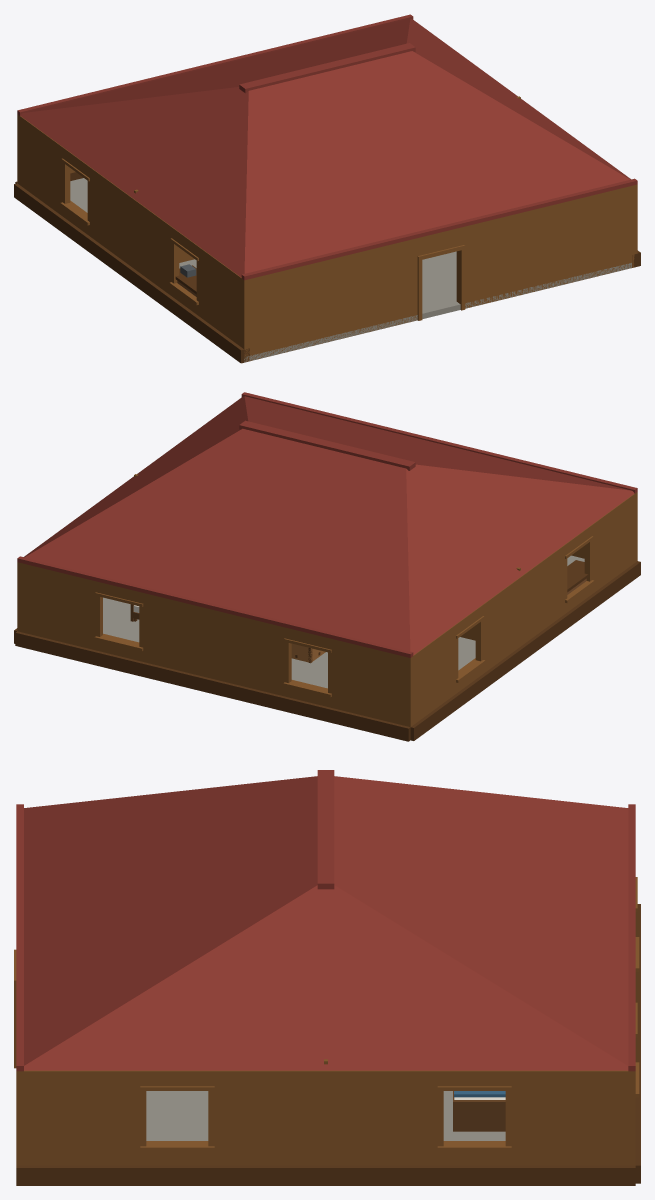
File: cabin_wood.glb
3 views of the same model, one above another, from view 1: azimuth 30°, elevation 25°; view 2: azimuth 150°, elevation 25°; view 3: azimuth 270°, elevation 25° (orthographic). The views are drawn at different scales.
Visible parts, largest first — view 1: cabin_wood; view 2: cabin_wood; view 3: cabin_wood.
Boxes of the visible parts, x1,y1,x2,y2 form: cabin_wood: (14, 14, 640, 363); cabin_wood: (14, 392, 640, 741); cabin_wood: (14, 770, 640, 1185).
Size of the model in its own units: 15.26 by 6.04 by 15.19.
